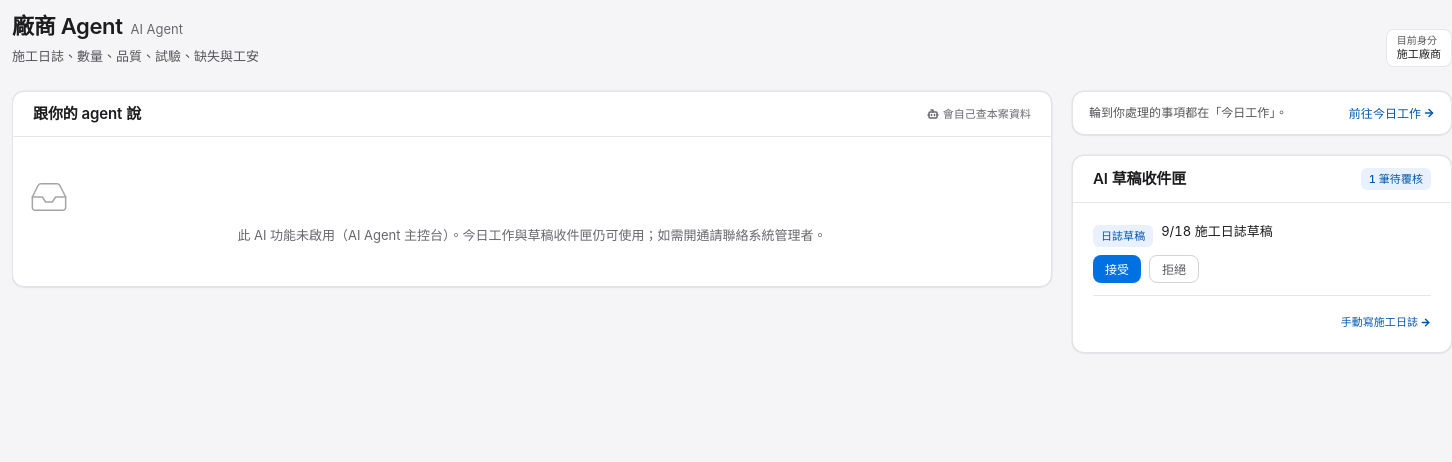
Test: 拒絕 AI 起稿的現場文書草稿 › 未簽署的草稿:確認後以「AI 草稿遭拒絕」捨棄那份文件,畫面說明版本與照片保留
Click the button "拒絕" at [1174, 269], box x1=1149 y1=255 x2=1199 y2=283
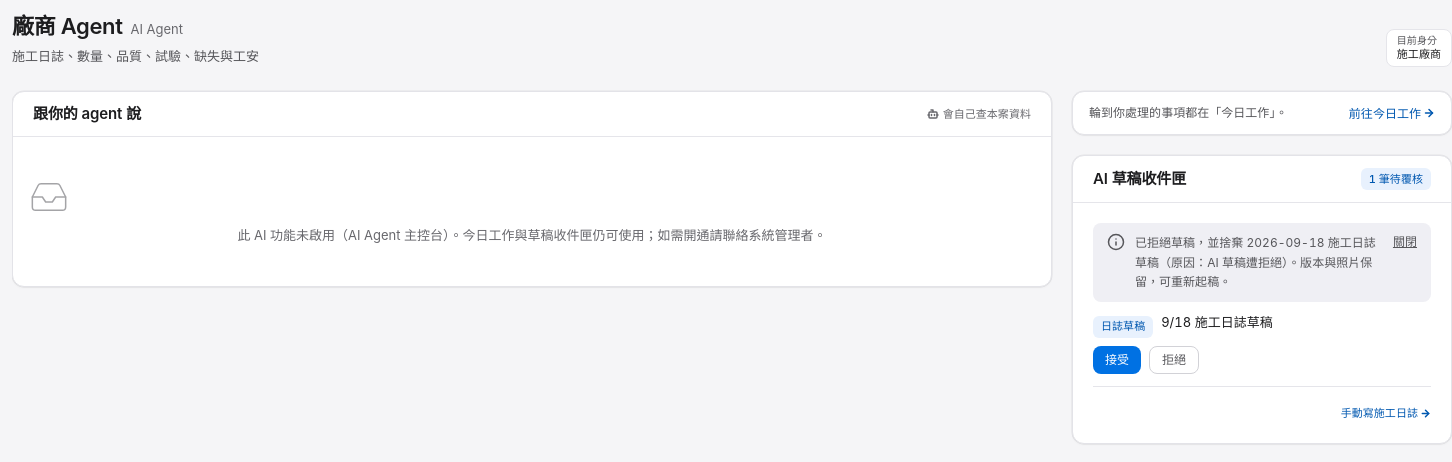
Expected: the text "捨棄 2026-09-18 施工日誌草稿" is shown, x1=1135 y1=235 x2=1376 y2=289
Expected: the text "版本與照片保留" is shown, x1=1135 y1=235 x2=1376 y2=289
